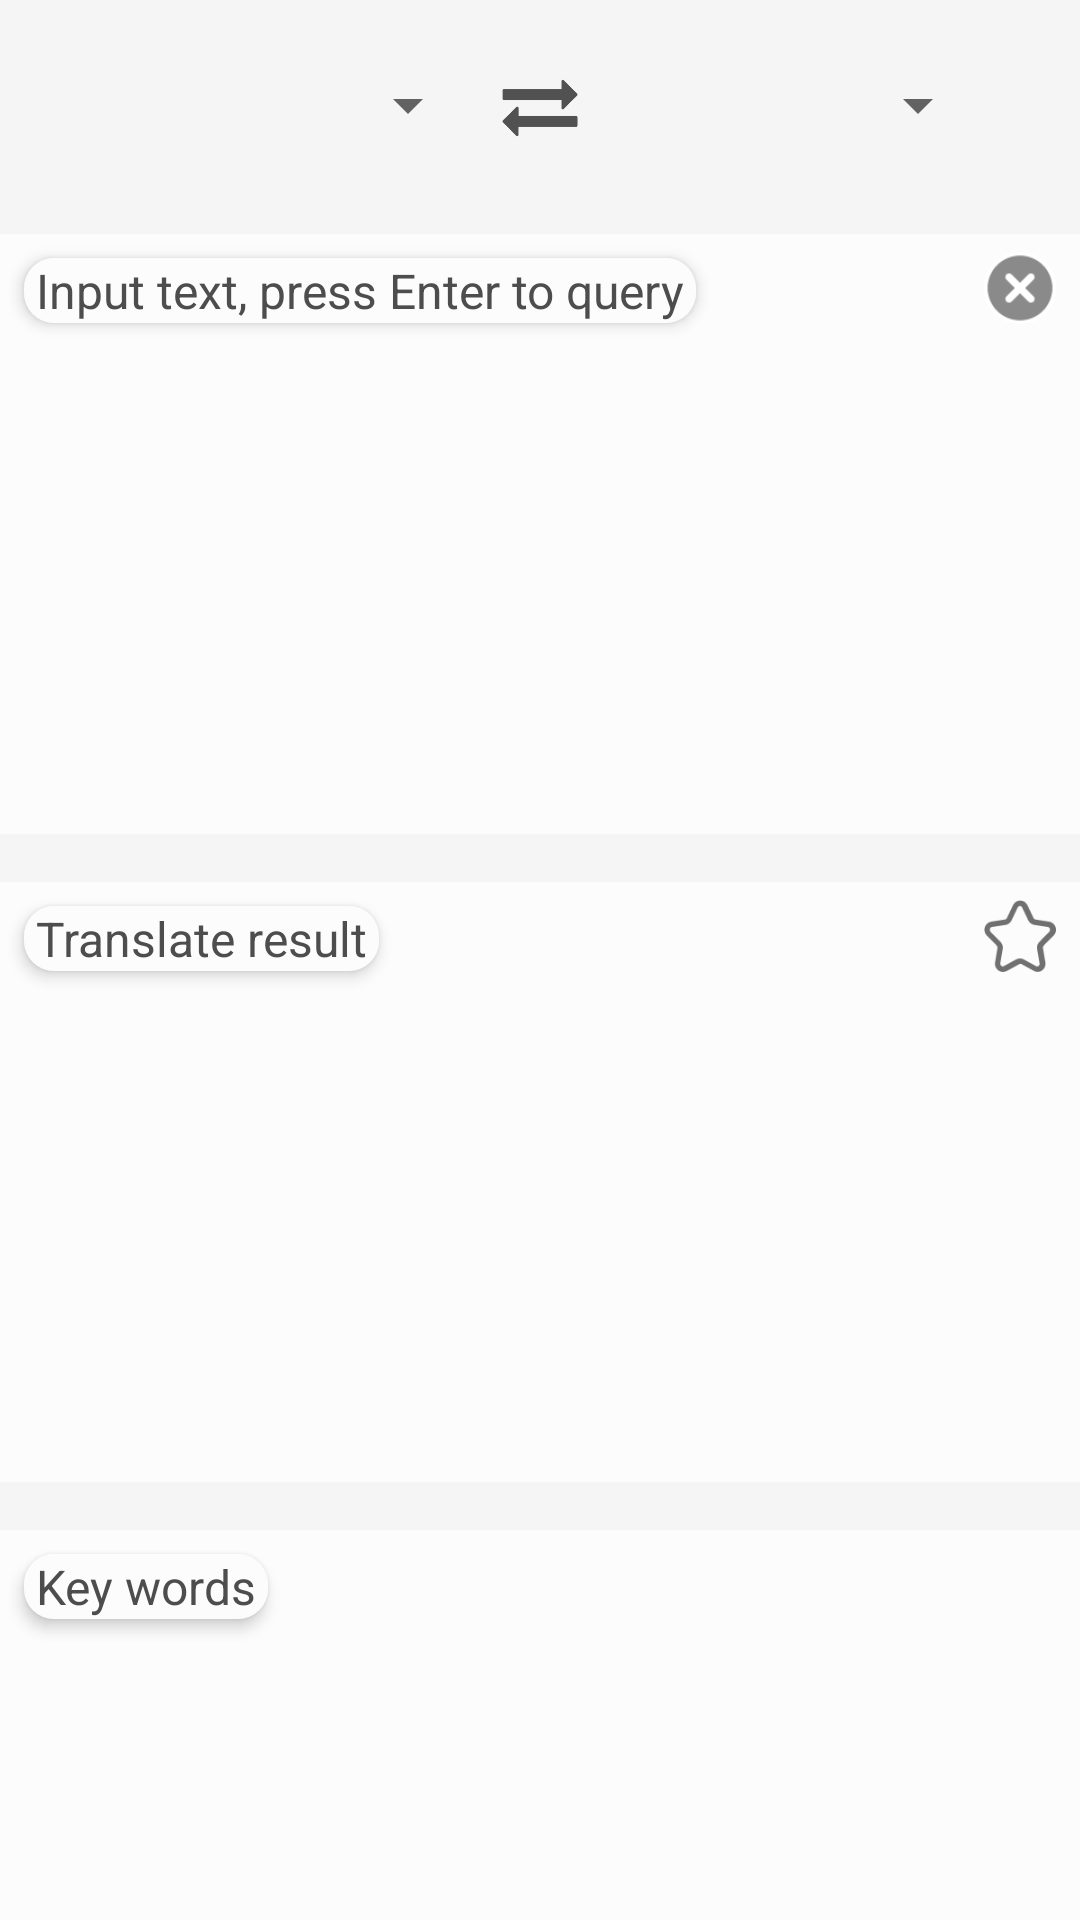

Named icons in this screenshot (1080*1920) and their centers, point (x, y):
collection: point (1020, 936)
reset: point (1020, 288)
switch: point (540, 108)
